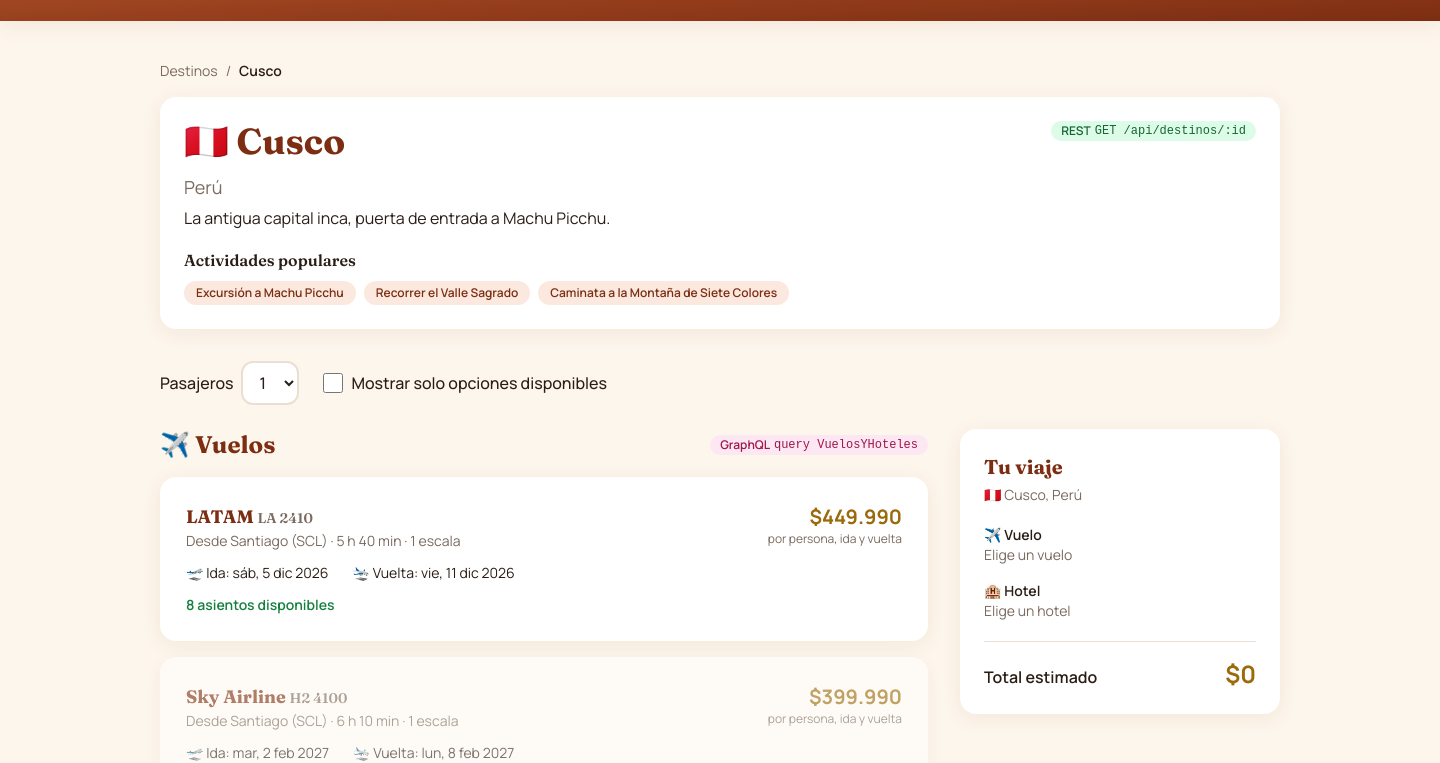
Página Destino (REST + GraphQL) › al elegir vuelo y hotel calcula el total del viaje
Expected: the heading "🇵🇪 Cusco" is shown, 184,121 -> 345,161
Expected: the heading "✈️ Vuelos" is shown, 160,429 -> 275,461
Click the button "LA 2410": (220, 516) 160,477 -> 928,641
(page scrolled)
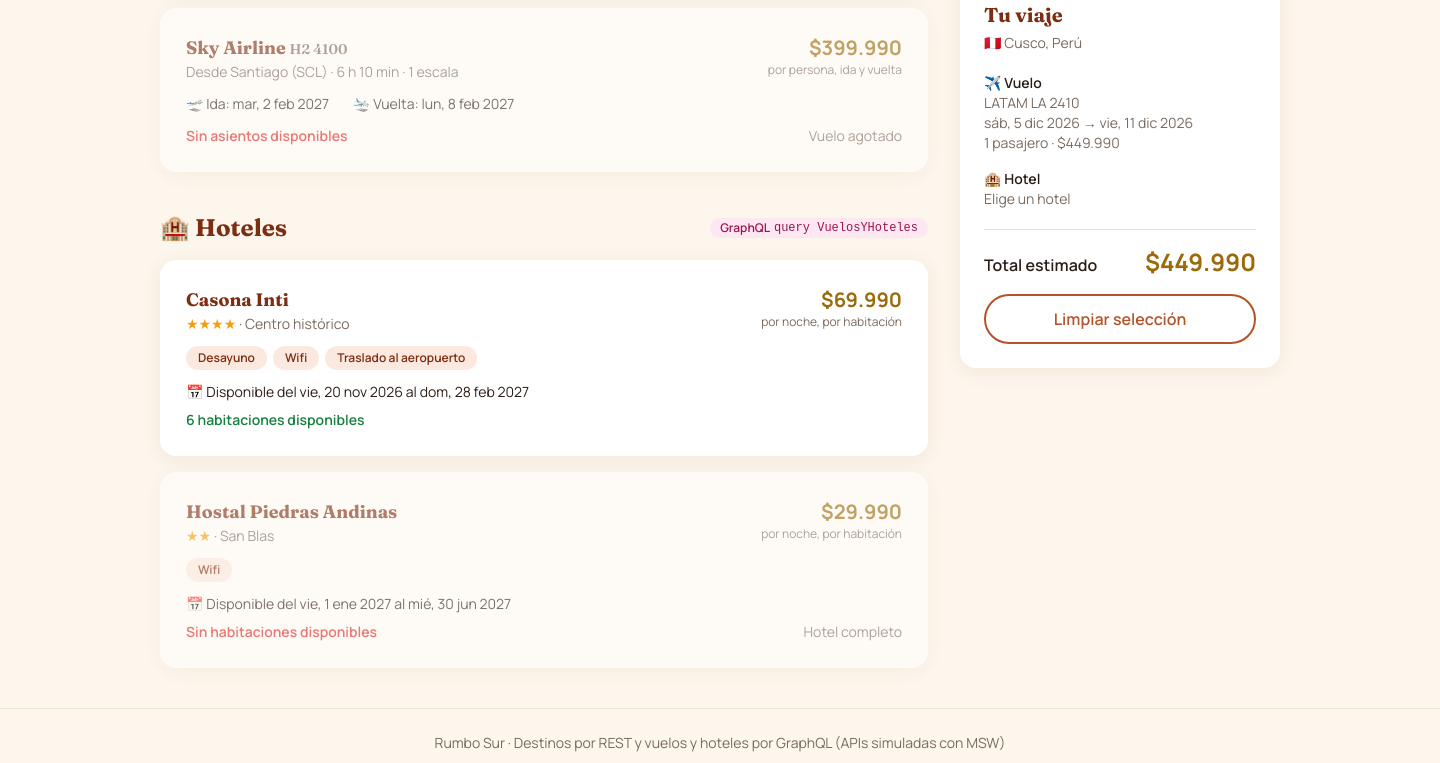
Click the button "Casona Inti": (544, 358) 160,260 -> 928,456
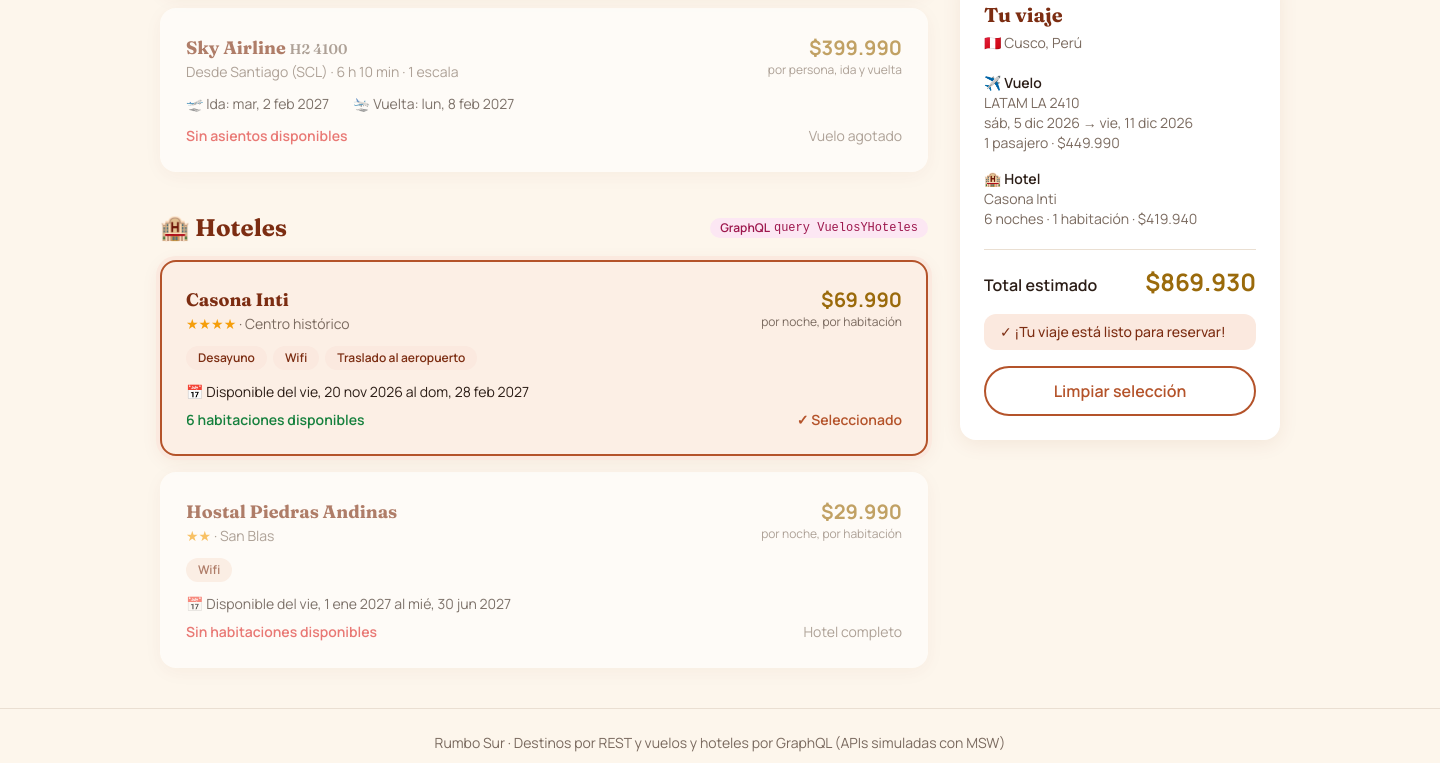
Expected: the text "$869.930" is shown, 1145,266 -> 1256,298
Expected: the text "¡Tu viaje está listo para reservar!" is shown, 1000,322 -> 1226,341
Click the button "Limpiar selección": (1120, 391) 984,366 -> 1256,416
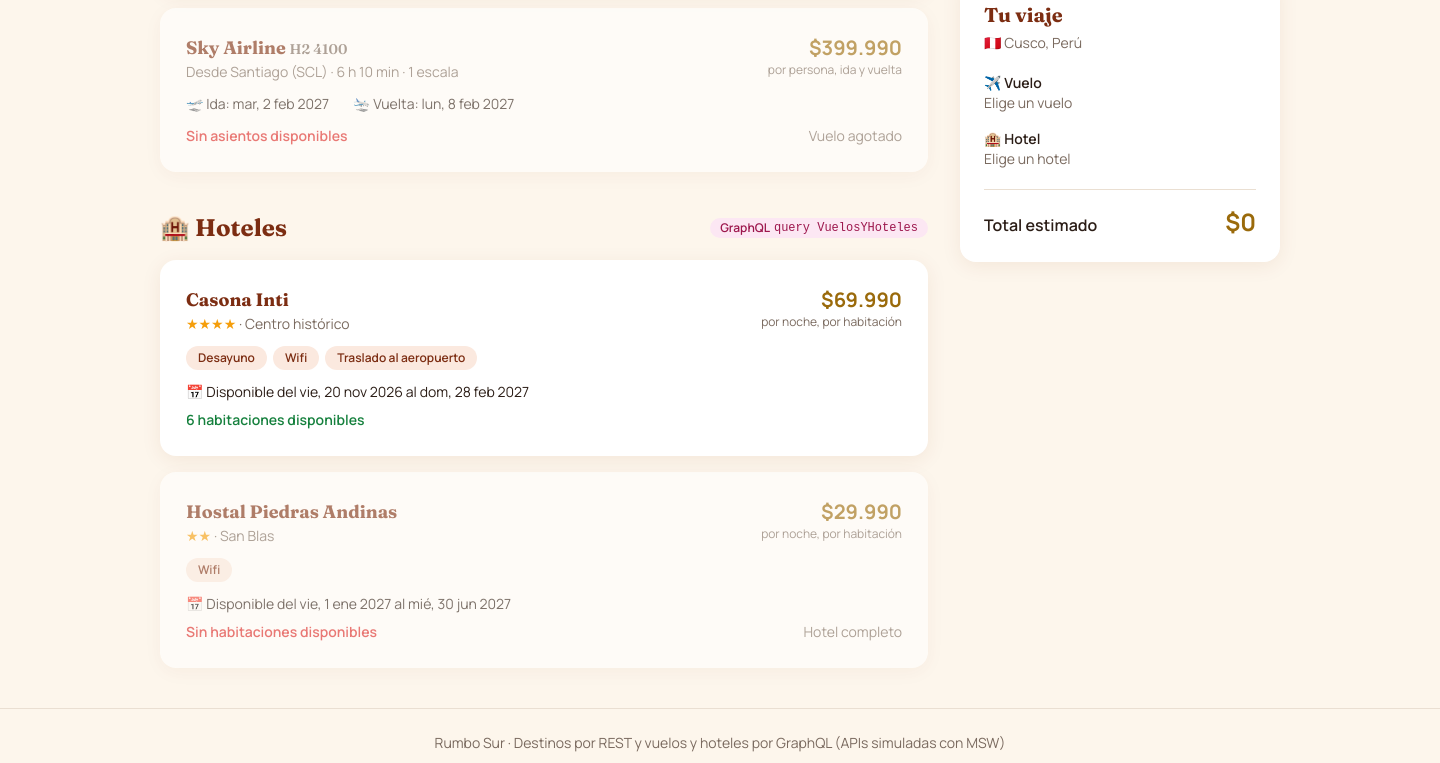
Expected: the text "Elige un vuelo" is shown, 984,93 -> 1072,112
